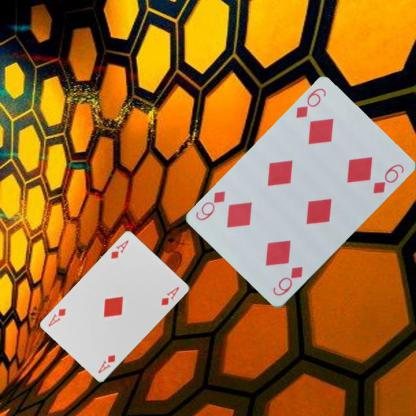6d: (293, 86, 328, 120), (270, 264, 304, 298)
Ad: (95, 352, 117, 374), (108, 238, 130, 260)
